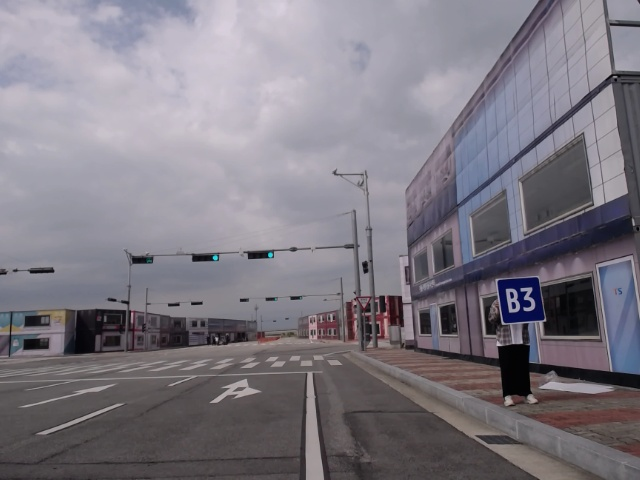delivery_b3: (496, 276, 549, 325)
straight_green_4: (189, 251, 220, 264), (246, 248, 276, 261), (288, 294, 305, 301), (264, 296, 281, 302)
